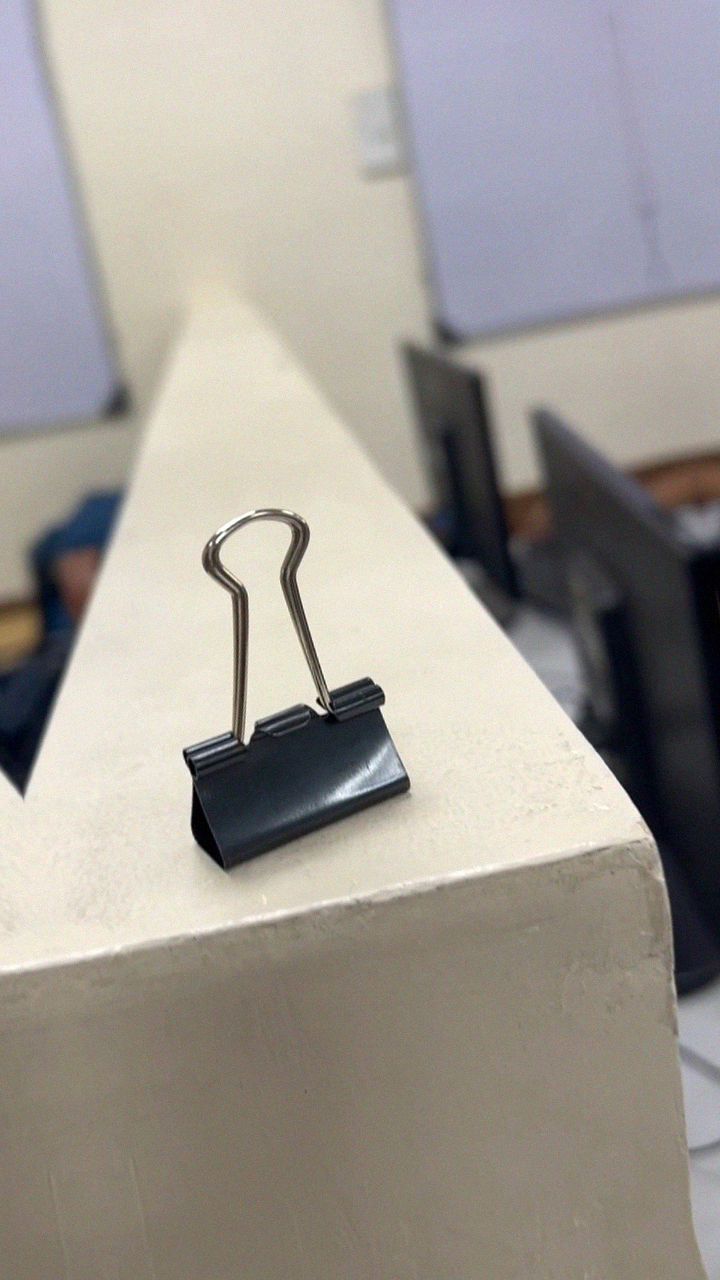kep_giay: (129, 486, 422, 873)
